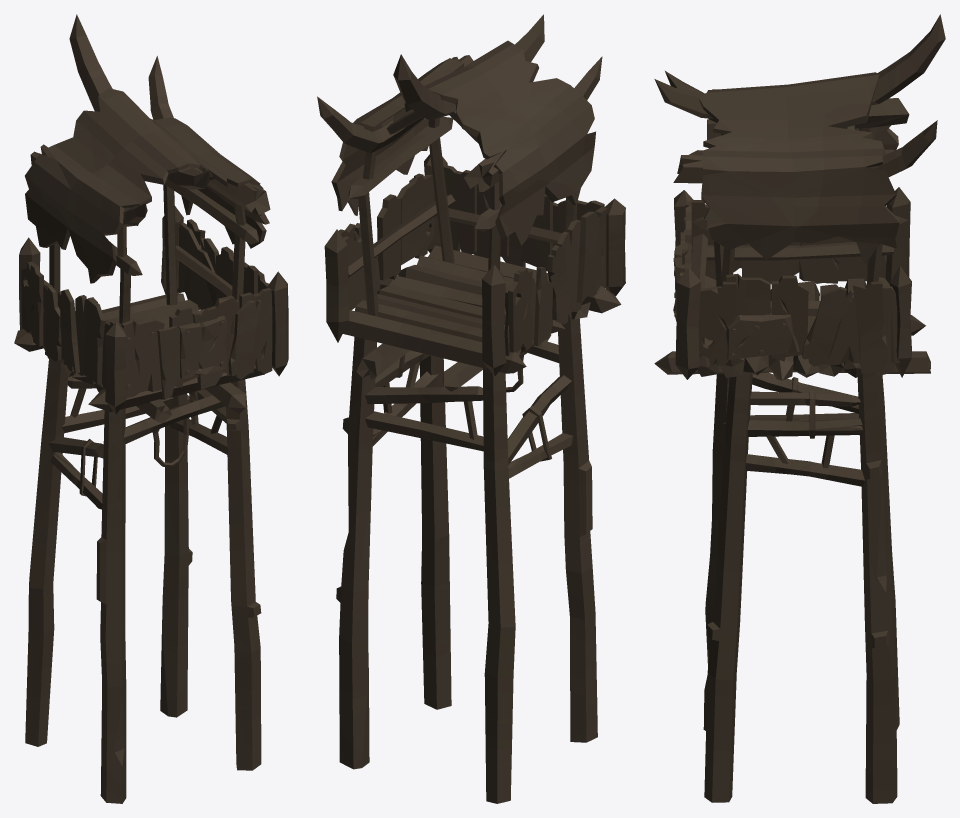
The model's file is bog_tower_b.gltf.
3 renders of one model, left to right at view 1: azimuth 30°, elevation 25°; view 2: azimuth 150°, elevation 25°; view 3: azimuth 270°, elevation 25°, orthographic. The views are drawn at different scales.
Parts seen in each view (by area): view 1: bog_tower_b; view 2: bog_tower_b; view 3: bog_tower_b.
Boxes of the visible parts, left/top/right/bottom form: bog_tower_b: left=14, top=14, right=288, bottom=803; bog_tower_b: left=317, top=14, right=625, bottom=803; bog_tower_b: left=654, top=14, right=945, bottom=803.
Size of the model in its own units: 2.67 by 8.96 by 3.15.
1 material, 1 textured.
